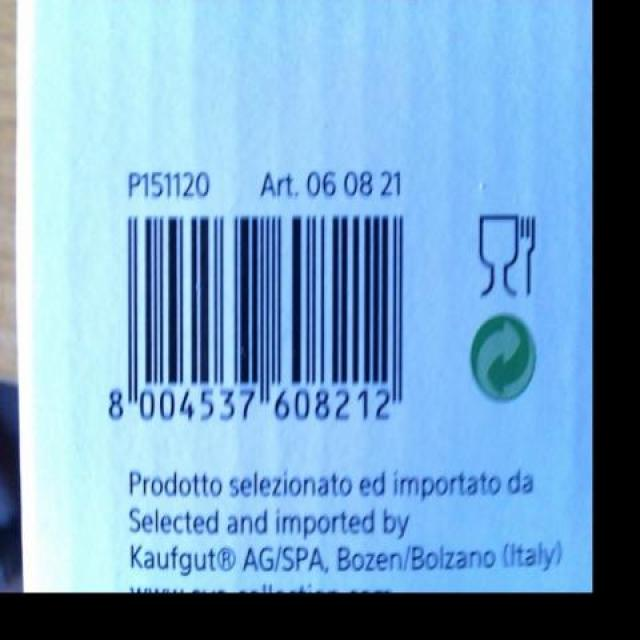Barcode: (98, 204, 422, 440)
